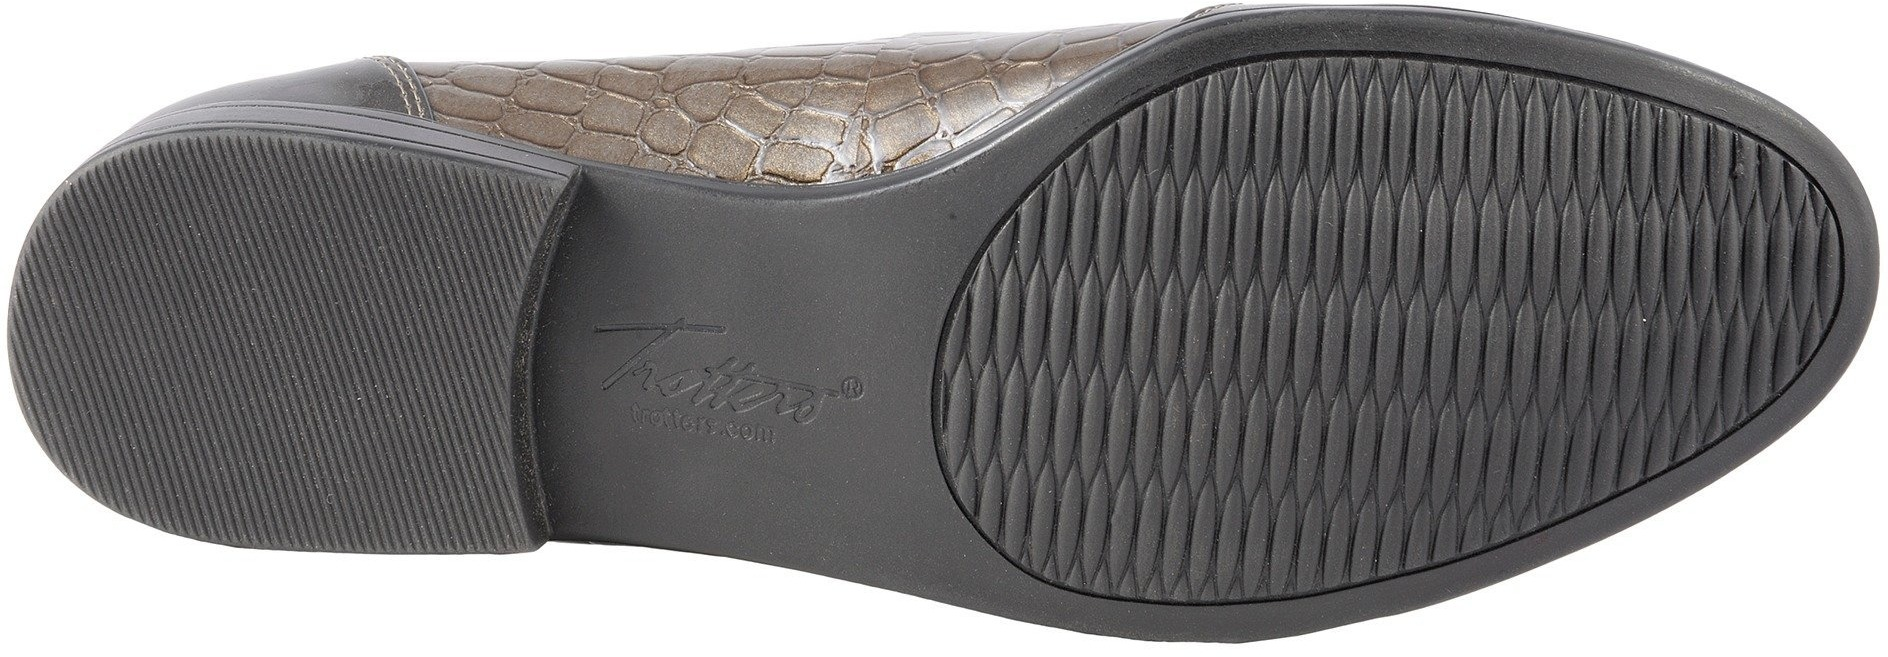other: (67, 194, 314, 436), (317, 355, 503, 544), (320, 168, 505, 349)
text: (728, 347, 840, 470), (614, 314, 719, 442)
